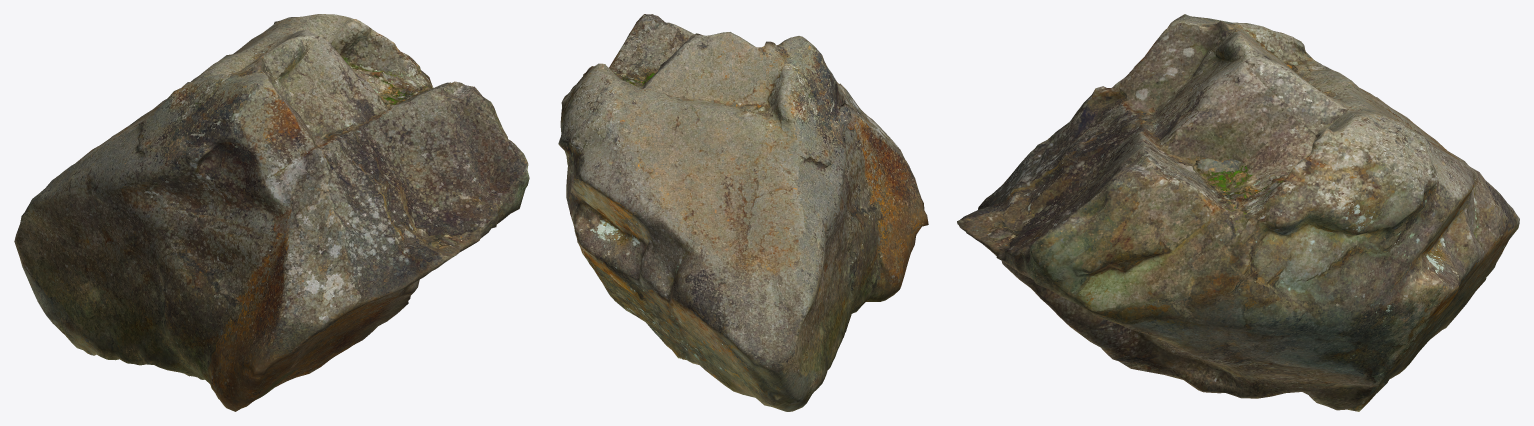
The model's file is kamien.glb.
3 renders of one model, left to right at view 1: azimuth 30°, elevation 25°; view 2: azimuth 150°, elevation 25°; view 3: azimuth 270°, elevation 25°, orthographic. The views are drawn at different scales.
Visible parts, largest first — view 1: ROCK2; view 2: ROCK2; view 3: ROCK2.
Boxes of the visible parts, left/top/right/bottom form: ROCK2: left=14, top=14, right=529, bottom=411; ROCK2: left=558, top=14, right=928, bottom=411; ROCK2: left=957, top=14, right=1519, bottom=411.
Bounding box in the file's own units: 4.58 × 4.18 × 5.58.
1 material, 1 textured.
